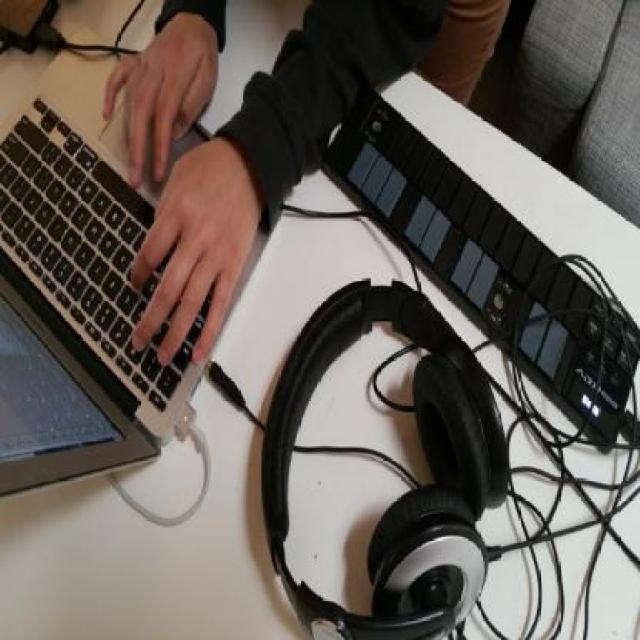earphone: (258, 282, 516, 640)
laptop_computer: (0, 22, 261, 482)
